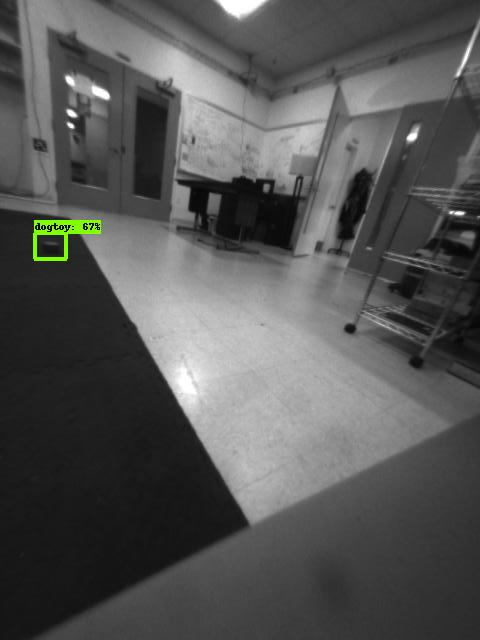dogtoy: (36, 235, 69, 261)
